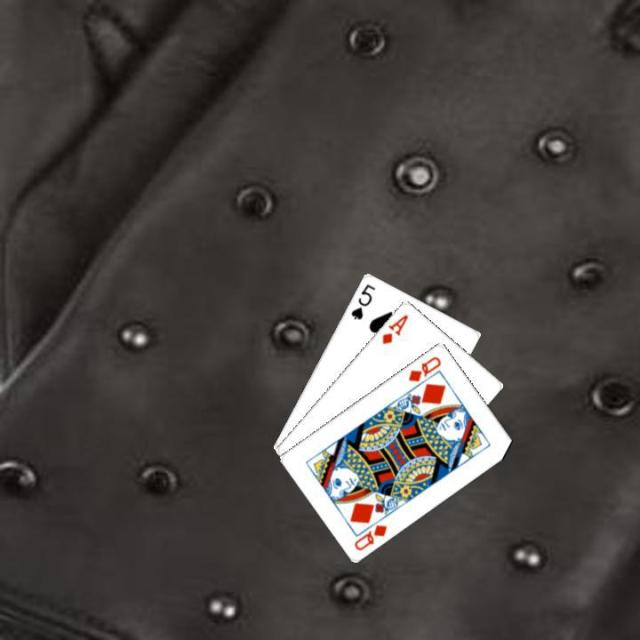5S: (347, 279, 377, 321)
AD: (378, 310, 410, 346)
QD: (350, 520, 390, 552), (404, 352, 442, 383)
